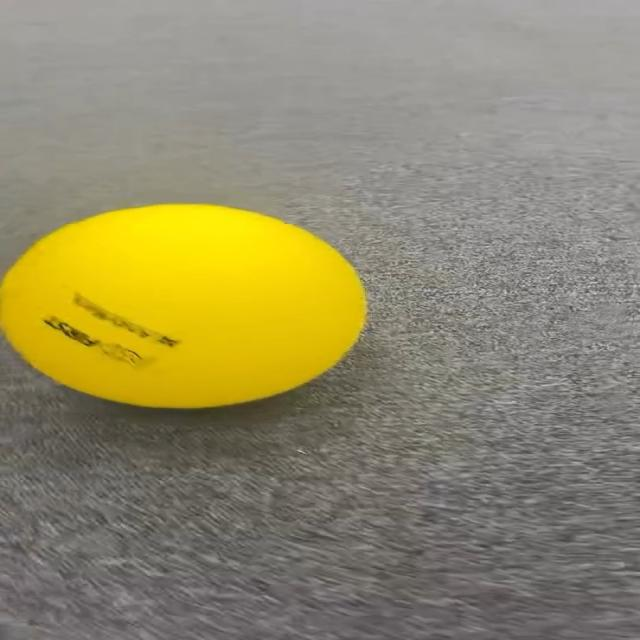Fuels: (2, 205, 366, 406)
